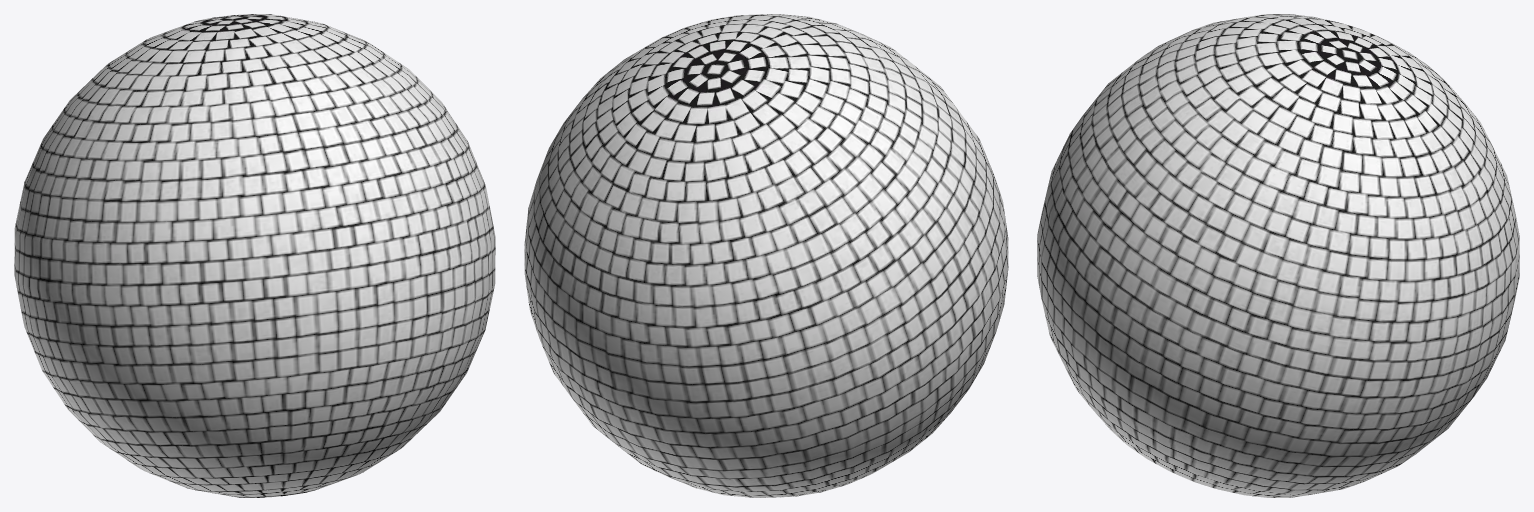
Rendered from disco_ball.glb.
3 views of the same model, side by side, from view 1: azimuth 30°, elevation 25°; view 2: azimuth 150°, elevation 25°; view 3: azimuth 270°, elevation 25° (orthographic).
Visible parts, largest first — view 1: Object_7; view 2: Object_7; view 3: Object_7.
Part boxes in pixels (<box>): Object_7: <box>14,14,495,497</box>; Object_7: <box>524,14,1008,497</box>; Object_7: <box>1037,14,1519,497</box>.
Bounding box in the file's own units: 0.278 × 0.2777 × 0.2776.
1 material, 1 textured.
